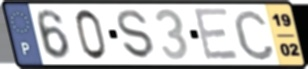0: (74, 8, 108, 61)
3: (153, 7, 193, 62)
6: (34, 7, 73, 62)
C: (230, 7, 277, 62)
E: (191, 6, 241, 63)
S: (115, 9, 157, 61)
